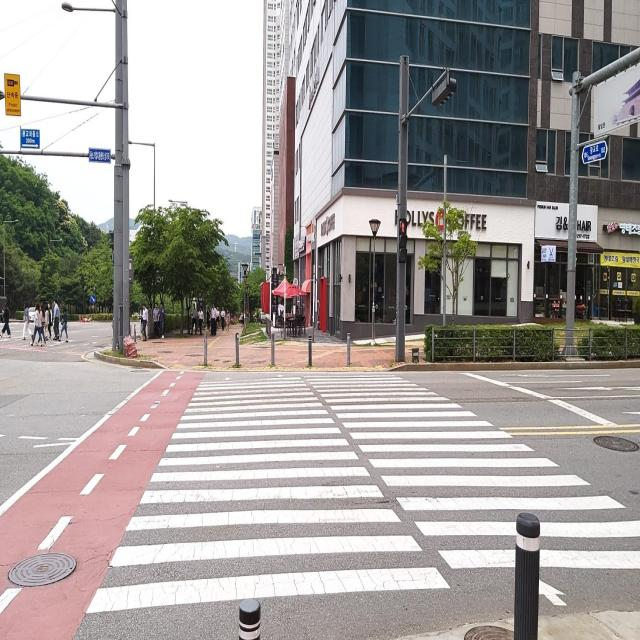빨간불: (398, 222, 408, 264)
횡단보도: (85, 374, 640, 616)
